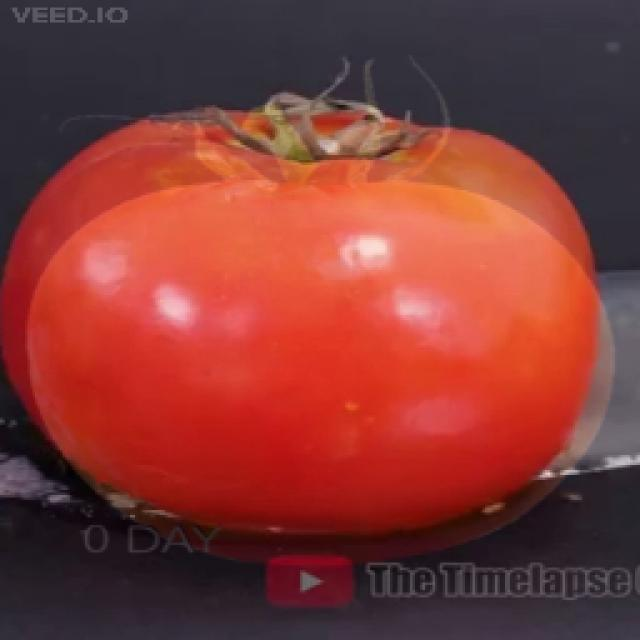tomato: (0, 94, 616, 567)
